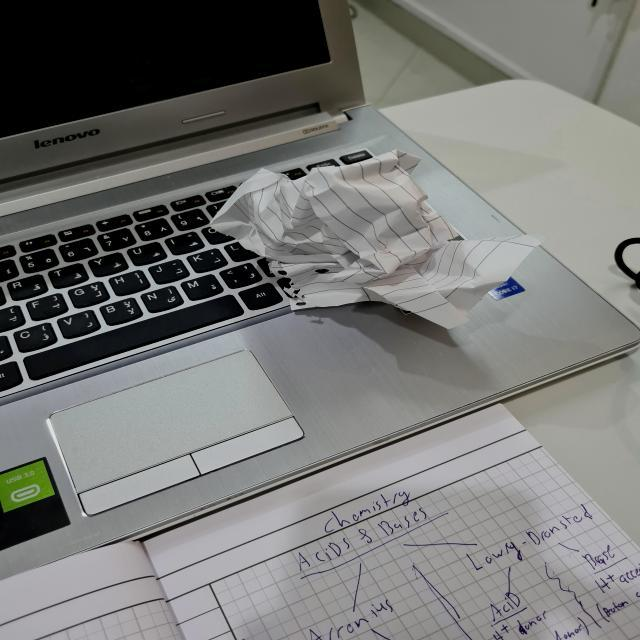Paper: (211, 153, 551, 350)
